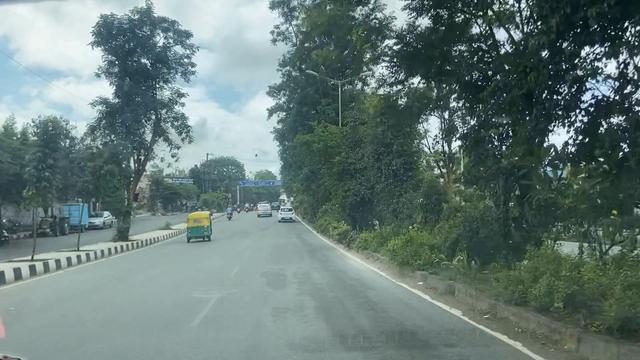LMV: (187, 211, 213, 242), (278, 206, 295, 223), (258, 203, 270, 217), (225, 207, 232, 221)
